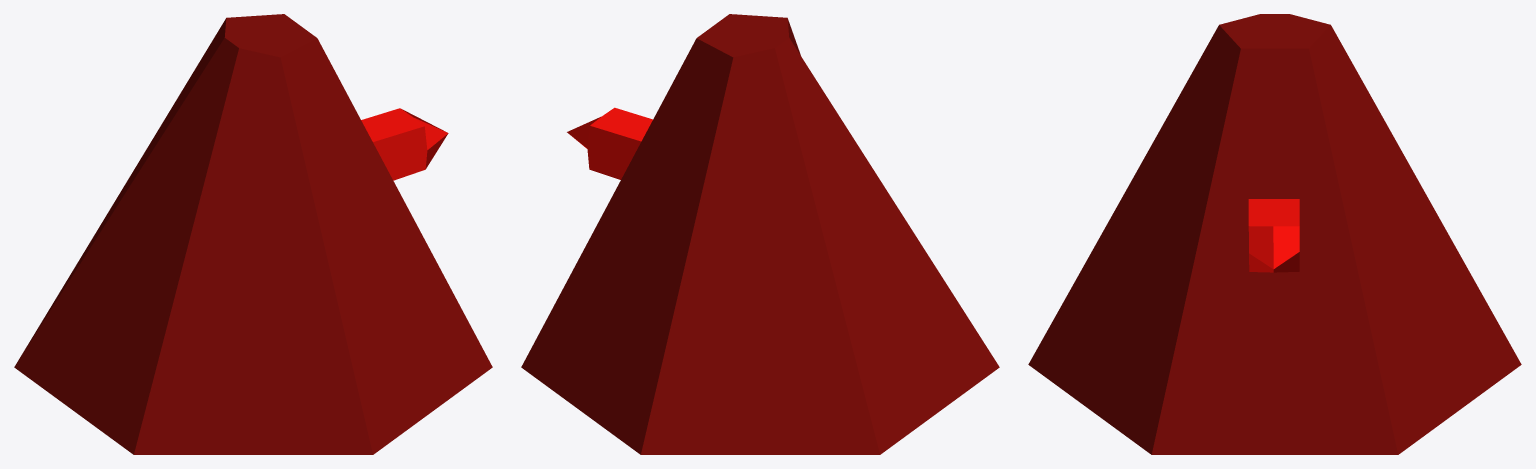
Rendered from enemy.fbx.
The picture shows the model from 3 angles, left to right: view 1: azimuth 30°, elevation 25°; view 2: azimuth 150°, elevation 25°; view 3: azimuth 270°, elevation 25°; orthographic projection. The views are drawn at different scales.
Visible parts, largest first — view 1: enemy; view 2: enemy; view 3: enemy.
Part boxes in pixels (x1,y1,x2,y2): enemy: (14, 14, 492, 454); enemy: (521, 14, 999, 454); enemy: (1028, 14, 1521, 454).
Bounding box in the file's own units: 1.8 × 1.52 × 2.
